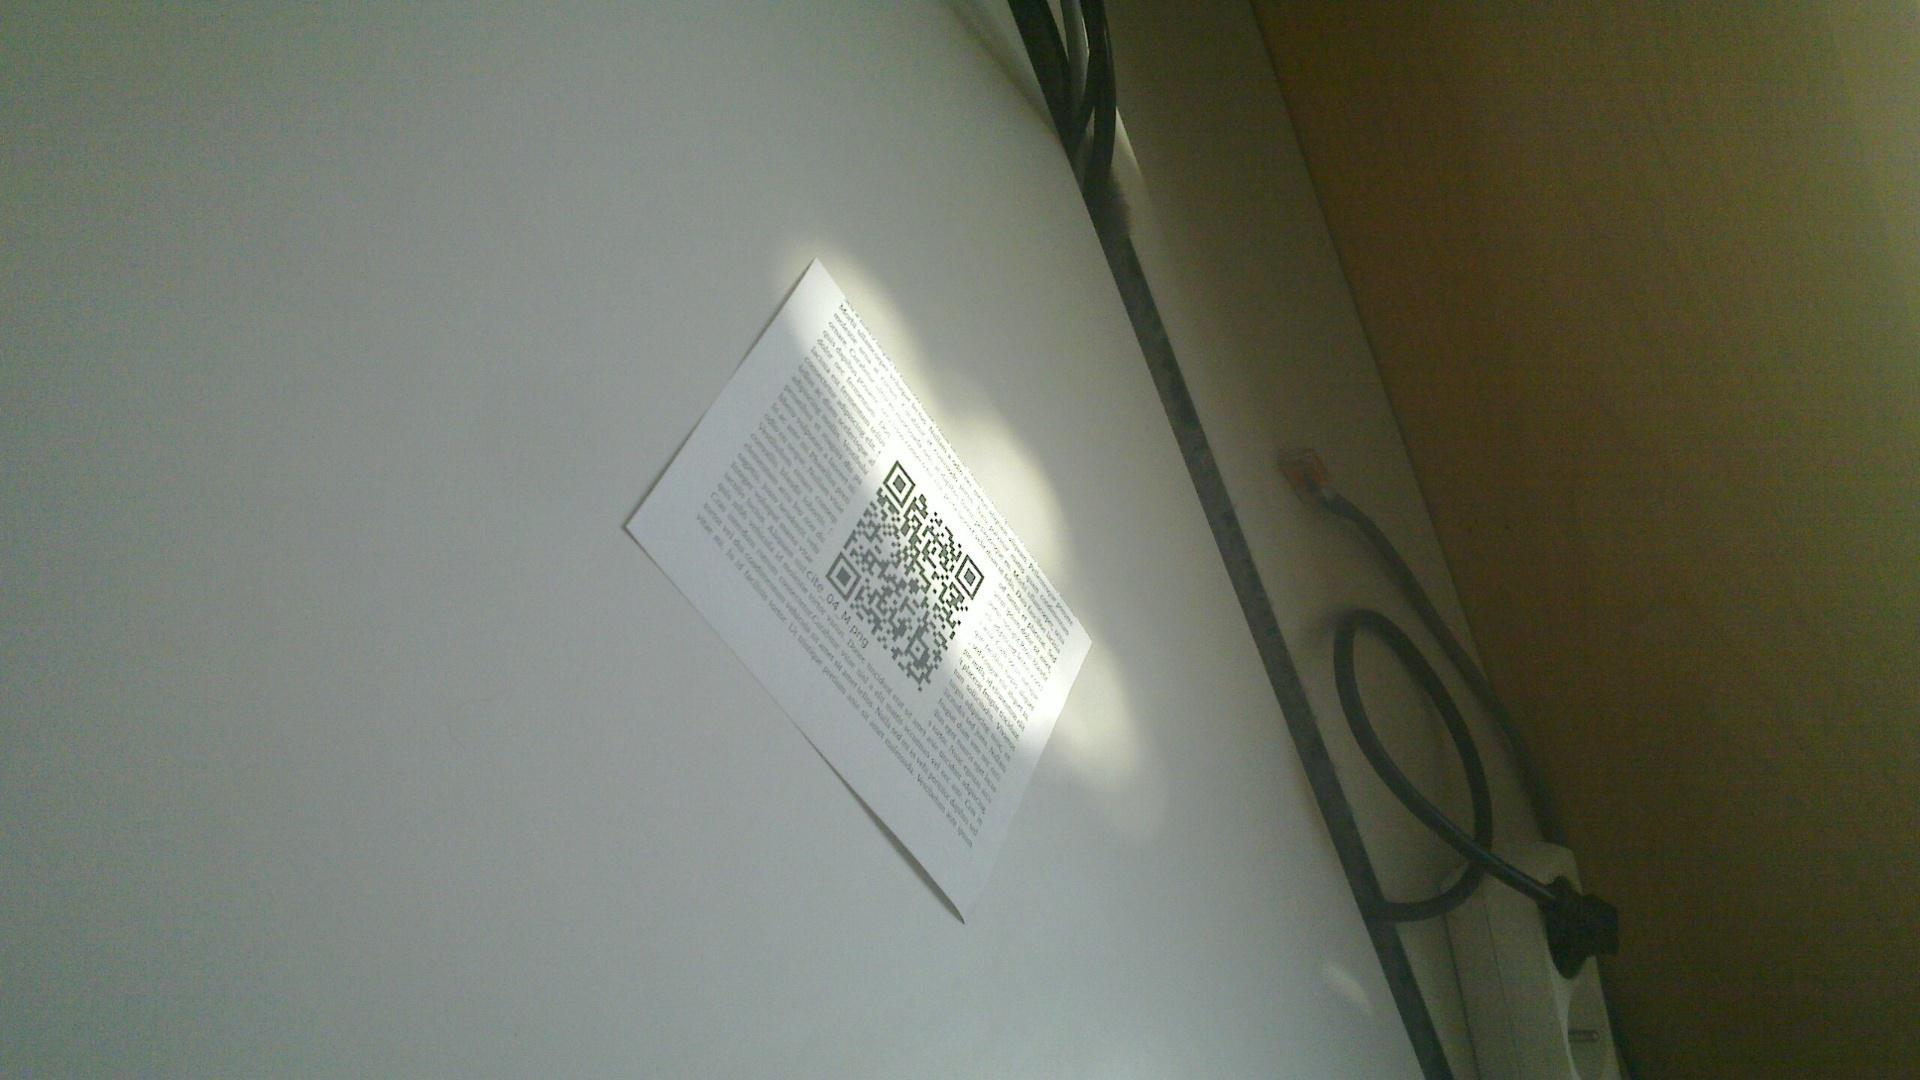Finder pattern: (824, 547, 860, 603), (880, 455, 916, 506), (953, 551, 986, 601)
